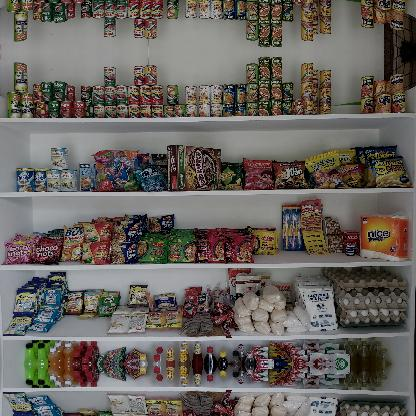Koko-Krunch: (167, 145, 221, 191)
